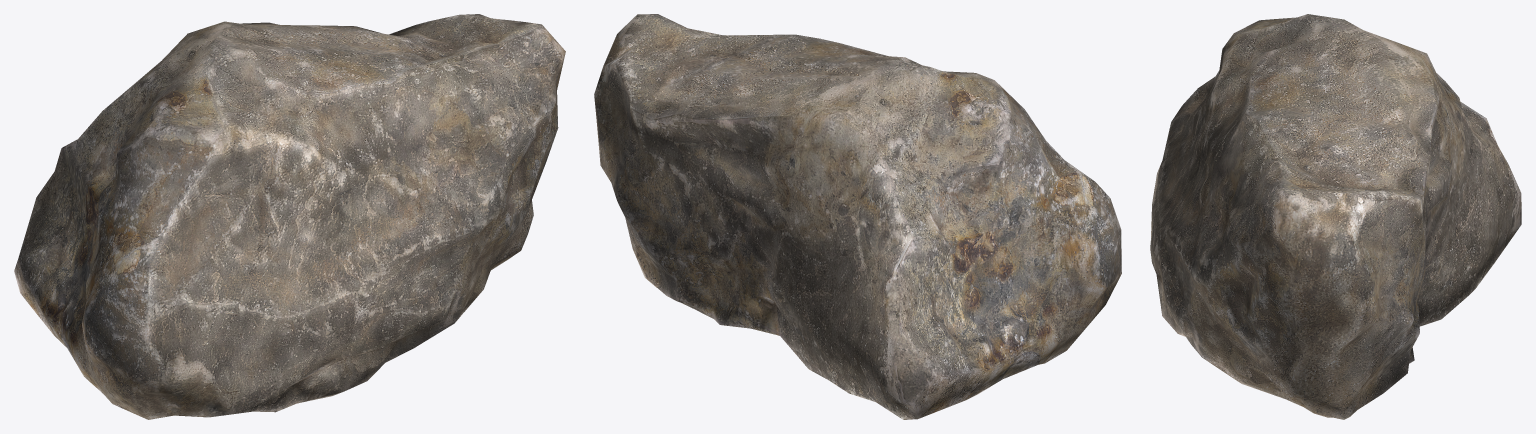
The model's file is rock.gltf.
The picture shows the model from 3 angles, left to right: view 1: azimuth 30°, elevation 25°; view 2: azimuth 150°, elevation 25°; view 3: azimuth 270°, elevation 25°; orthographic projection. The views are drawn at different scales.
Parts seen in each view (by area): view 1: rock; view 2: rock; view 3: rock.
Part boxes in pixels (x1=…): rock: x1=14, y1=14, x2=565, y2=419; rock: x1=594, y1=14, x2=1121, y2=419; rock: x1=1150, y1=14, x2=1521, y2=419.
Size of the model in its own units: 0.1003 by 0.0589 by 0.0675.
